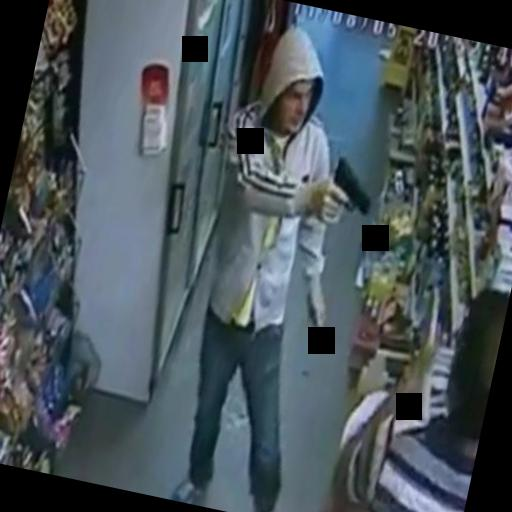Handgun: (304, 144, 382, 248)
